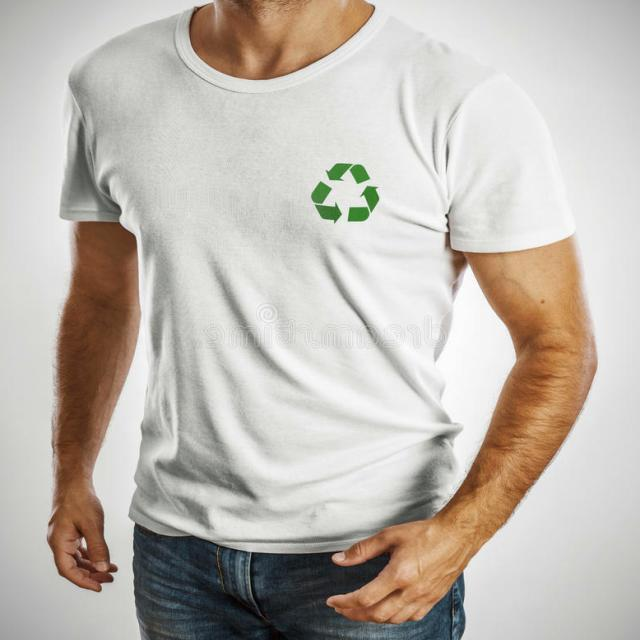clothes: (127, 40, 482, 526)
